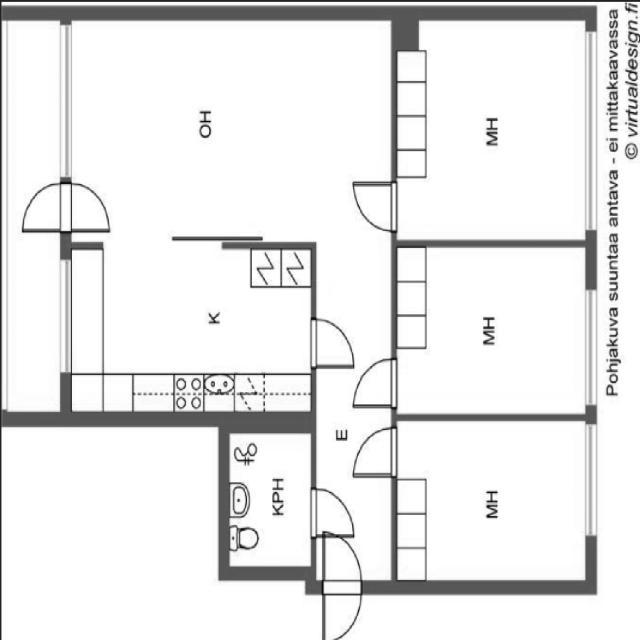door: (313, 530, 370, 640), (342, 172, 407, 237), (304, 309, 361, 374), (303, 481, 359, 543), (348, 421, 402, 483), (61, 176, 117, 234), (19, 179, 75, 234), (350, 354, 403, 409)
window: (573, 20, 607, 234), (47, 18, 82, 186), (50, 247, 78, 380), (579, 274, 605, 412), (579, 413, 603, 542)
zone: (63, 18, 394, 248), (393, 16, 593, 250), (66, 243, 318, 414), (390, 415, 592, 592), (392, 244, 592, 422), (224, 418, 316, 574)
